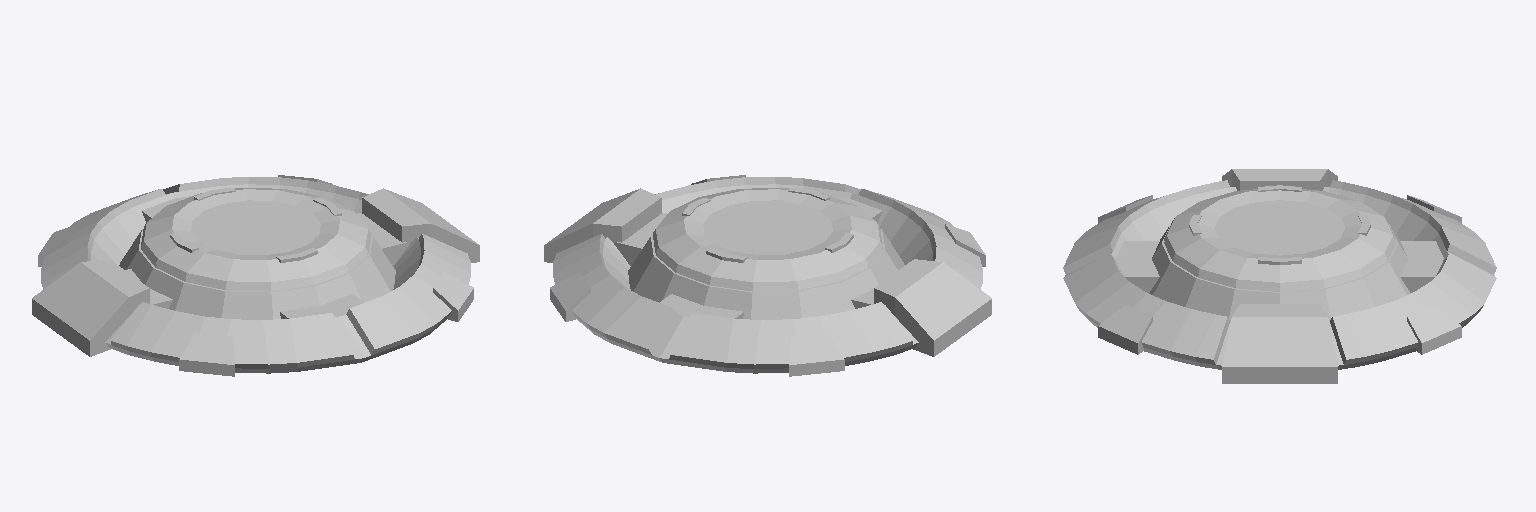
Rendered from Turret_Cannon_Base_Cylinder.obj.
3 renders of one model, left to right at view 1: azimuth 30°, elevation 25°; view 2: azimuth 150°, elevation 25°; view 3: azimuth 270°, elevation 25°, orthographic.
Visible parts, largest first — view 1: Turret_Cannon_Base_Cylinder.030; view 2: Turret_Cannon_Base_Cylinder.030; view 3: Turret_Cannon_Base_Cylinder.030.
Boxes of the visible parts, <box> form: Turret_Cannon_Base_Cylinder.030: <box>32,175,479,376</box>; Turret_Cannon_Base_Cylinder.030: <box>544,175,991,376</box>; Turret_Cannon_Base_Cylinder.030: <box>1063,169,1496,383</box>.
Size of the model in its own units: 1.16 by 0.1832 by 1.11.